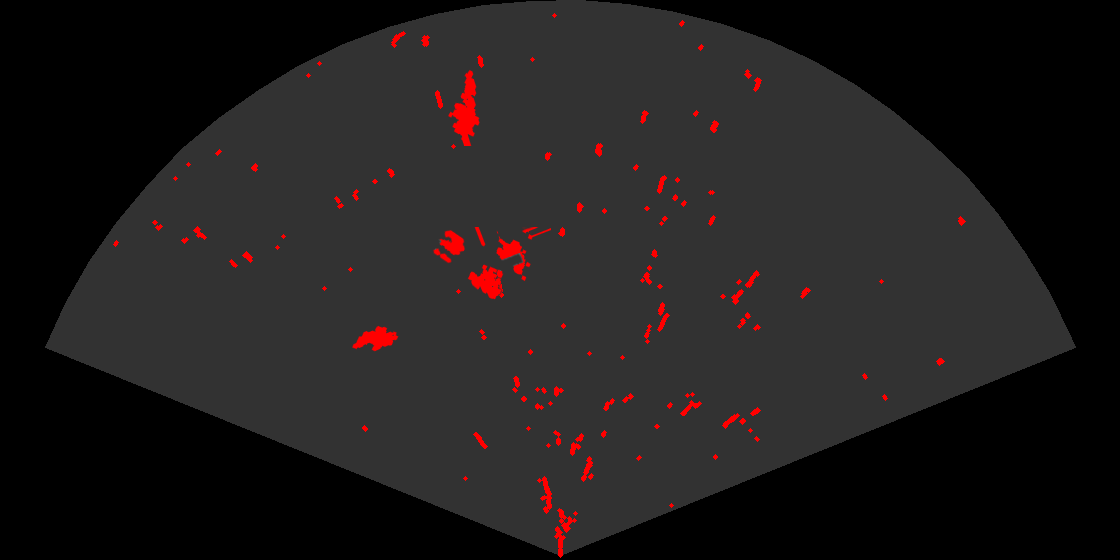AUV: (351, 324, 400, 353)
ball: (431, 228, 467, 265)
cage: (466, 227, 551, 301)
frogman: (447, 69, 481, 146)
